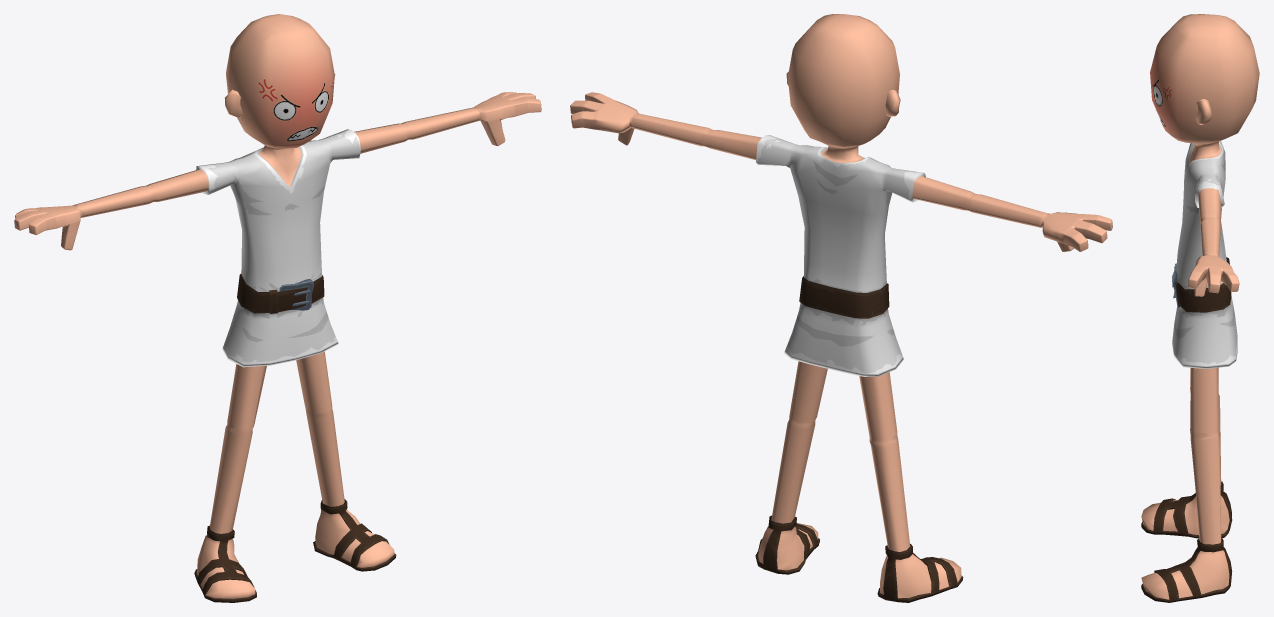
File: GladiatorTunic1.fbx
The picture shows the model from 3 angles, left to right: view 1: azimuth 30°, elevation 25°; view 2: azimuth 150°, elevation 25°; view 3: azimuth 270°, elevation 25°; orthographic projection. The views are drawn at different scales.
Parts seen in each view (by area): view 1: GladiatorTunic1; view 2: GladiatorTunic1; view 3: GladiatorTunic1.
Part boxes in pixels (x1=…): GladiatorTunic1: x1=14, y1=14, x2=541, y2=602; GladiatorTunic1: x1=570, y1=14, x2=1112, y2=602; GladiatorTunic1: x1=1141, y1=14, x2=1259, y2=602.
Bounding box in the file's own units: 275 × 275 × 54.8.
